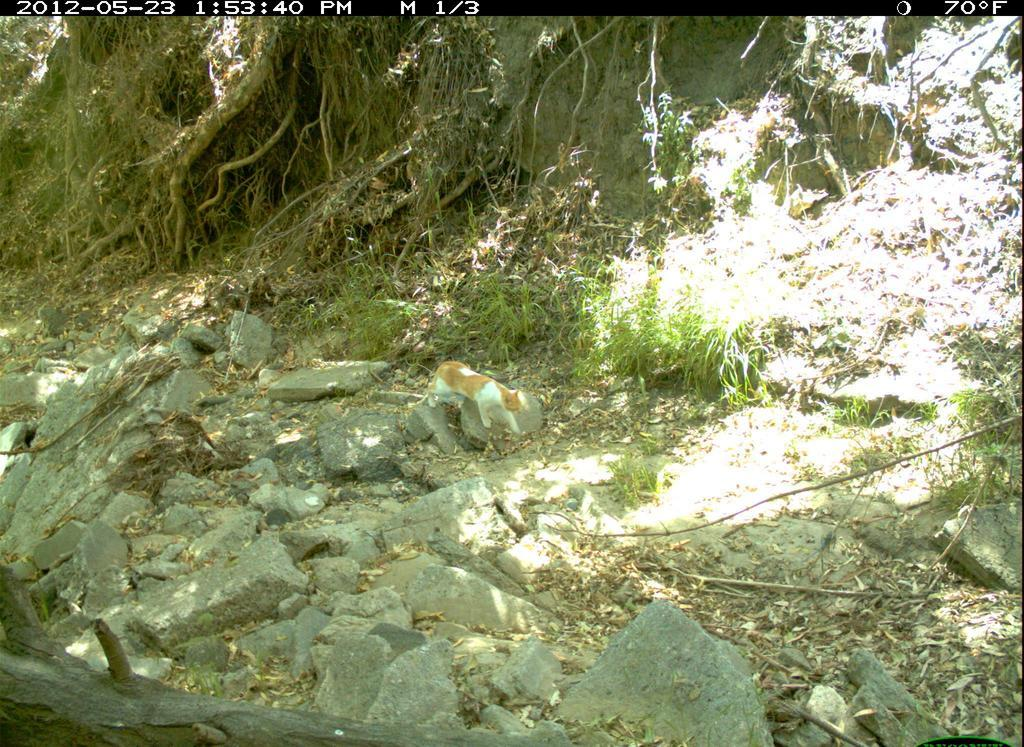cat: (417, 356, 537, 443)
